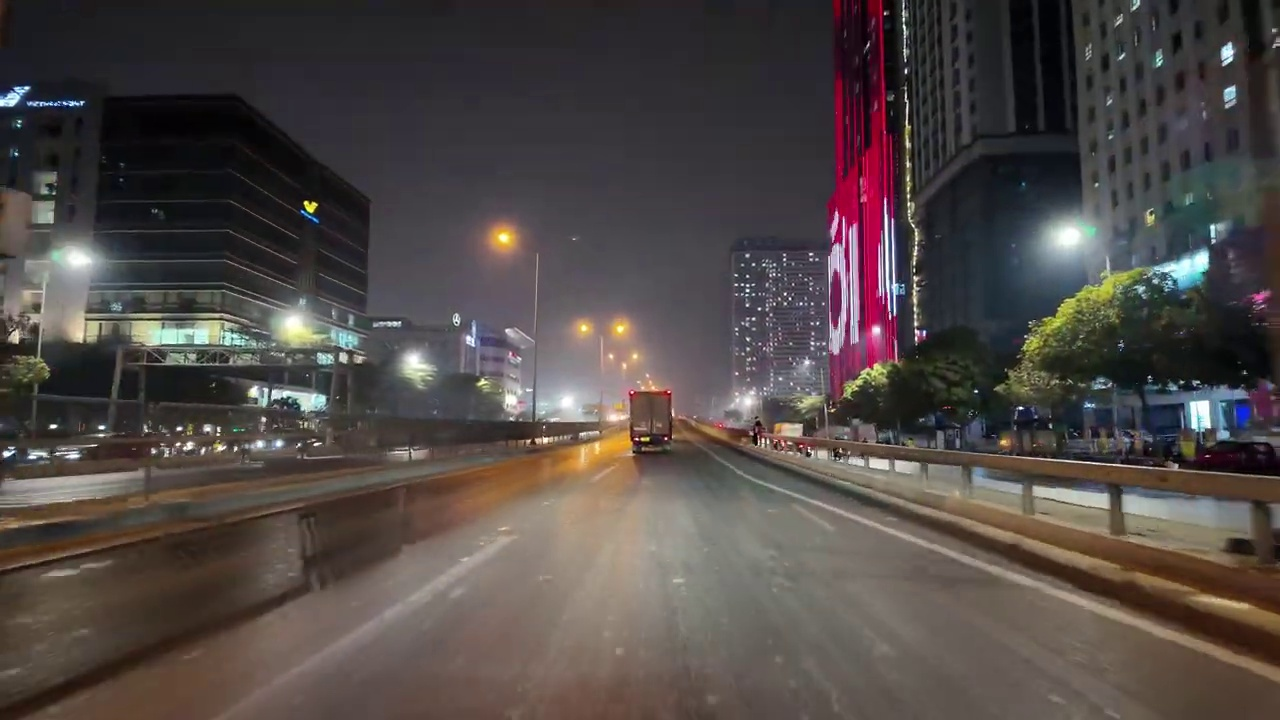acesa: (399, 351, 434, 389), (1048, 220, 1088, 252), (278, 315, 314, 344), (487, 223, 518, 252), (62, 246, 92, 272), (609, 316, 633, 341), (572, 316, 594, 341)
